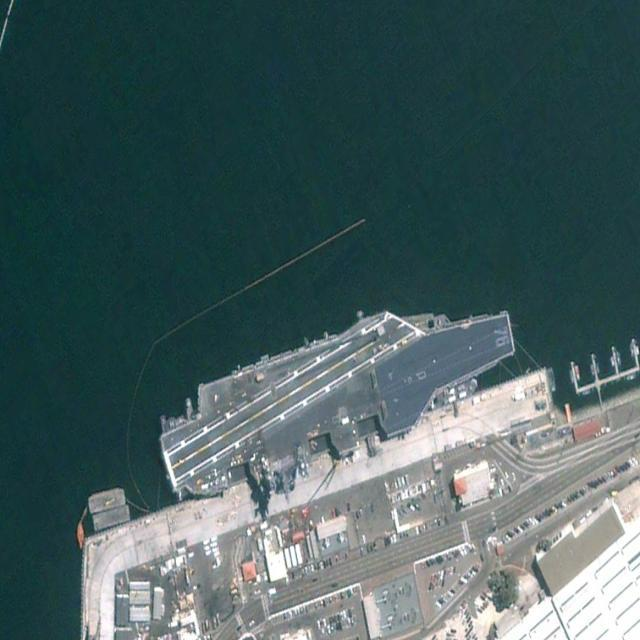Aircraft Carrier: (151, 261, 523, 526)
